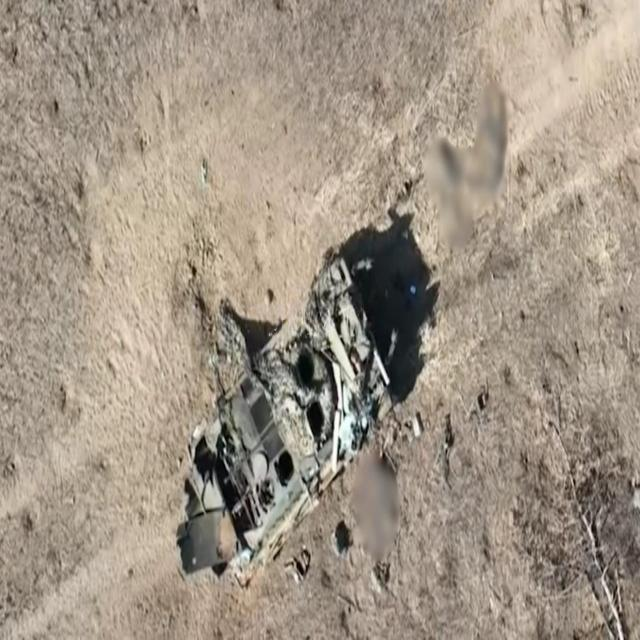AIFV: (148, 248, 405, 589)
